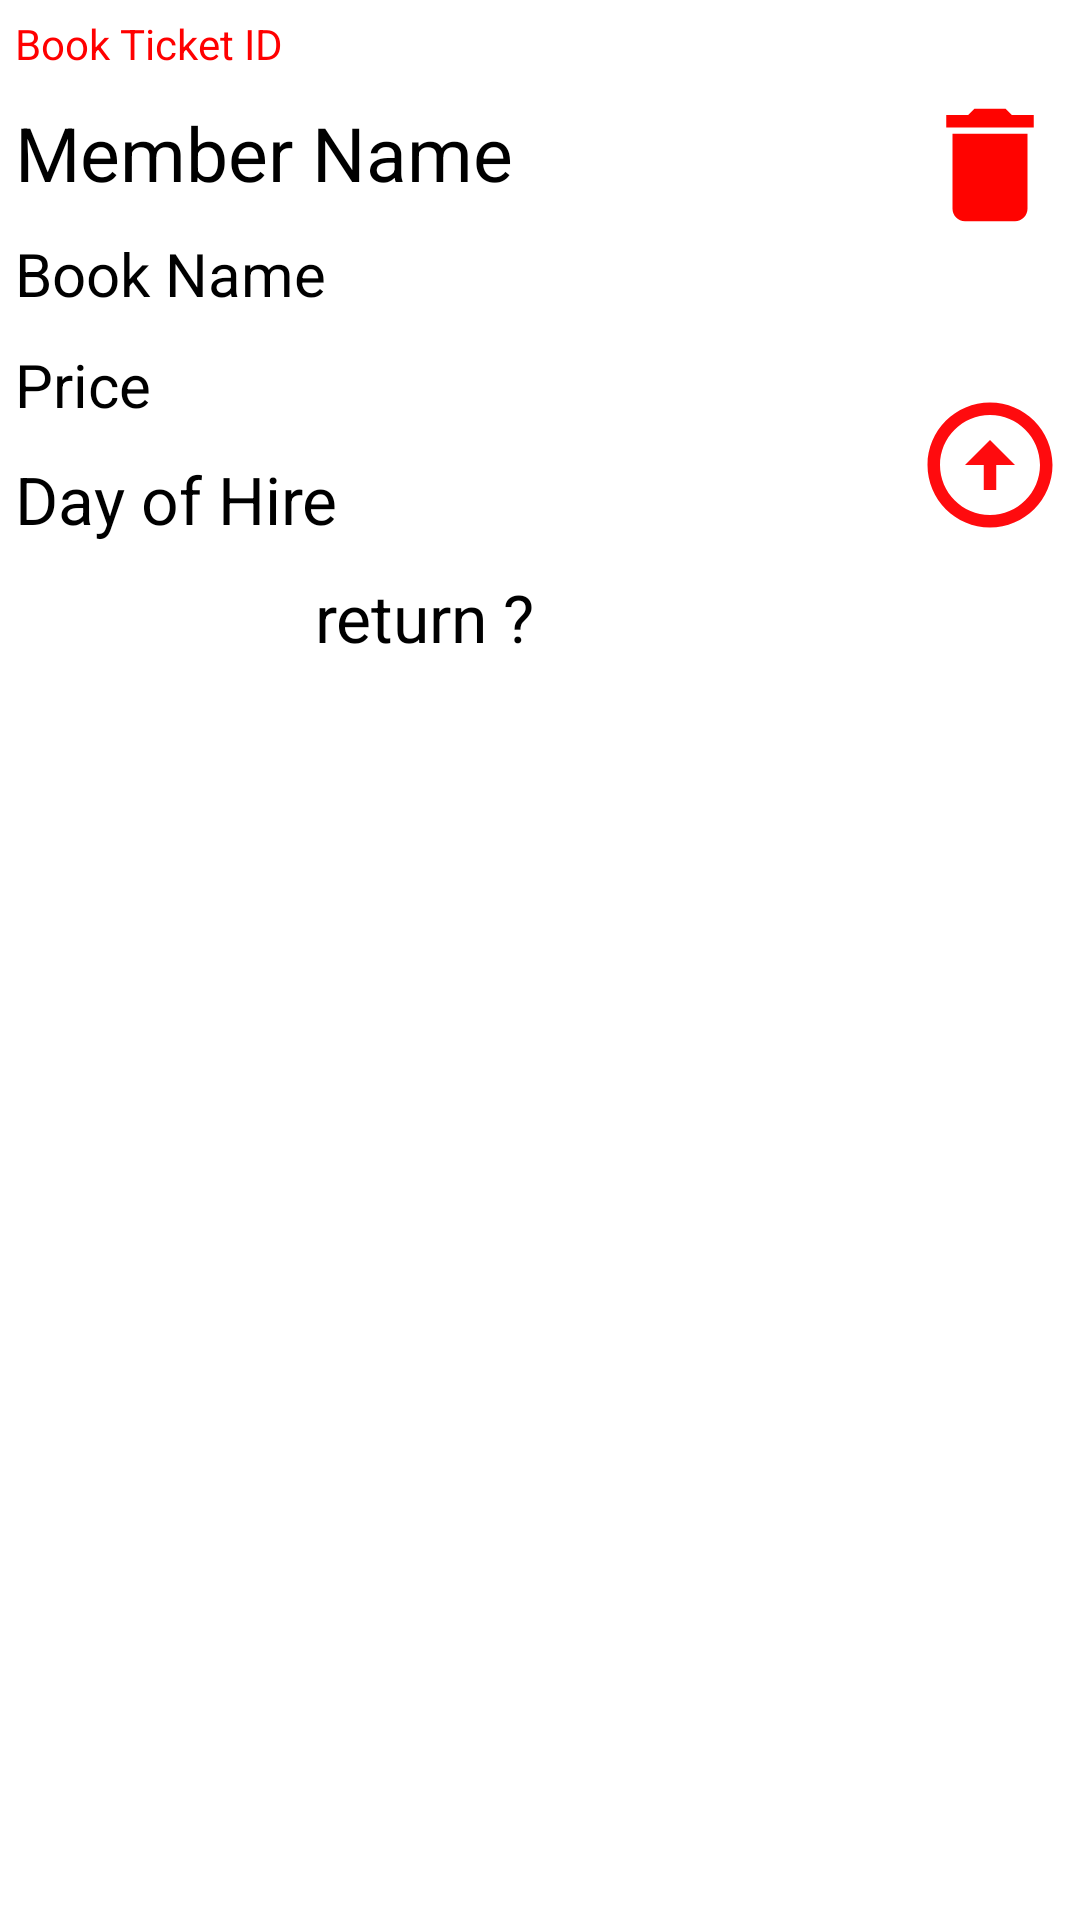

Where to tap for icons on this 1080*1920 app screen, as [x,y]:
arrow circle up: [990,465]
delete: [990,165]
